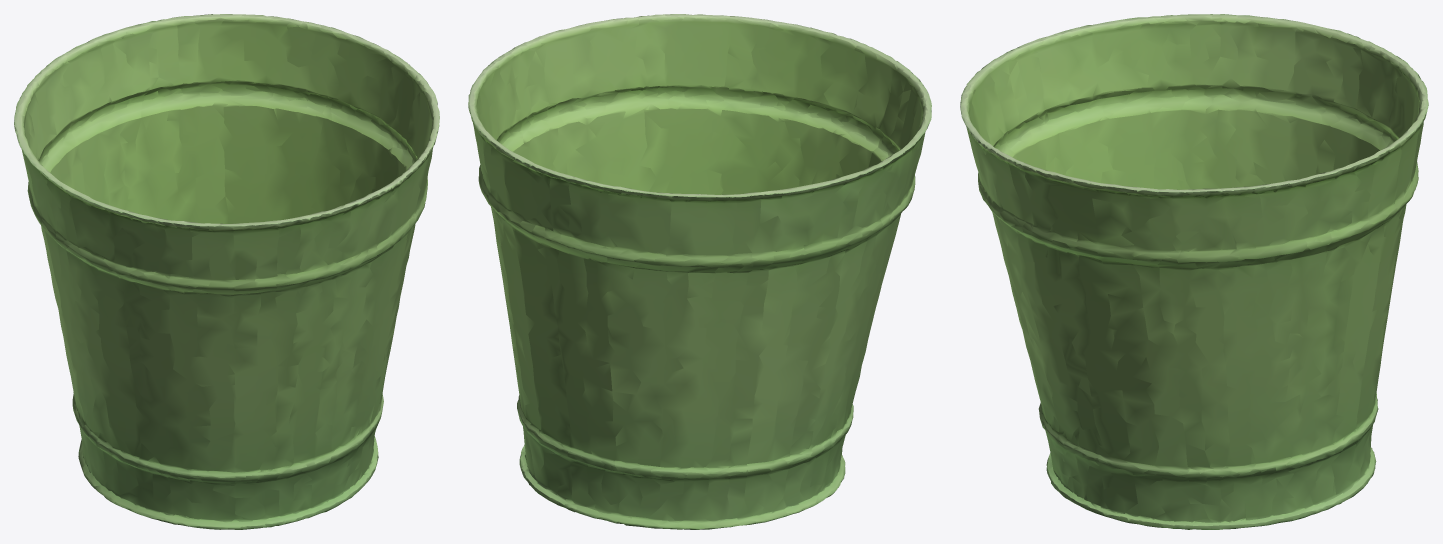
The model's file is 0009_mask_010_green_bucket.glb.
The picture shows the model from 3 angles, left to right: view 1: azimuth 30°, elevation 25°; view 2: azimuth 150°, elevation 25°; view 3: azimuth 270°, elevation 25°; orthographic projection. The views are drawn at different scales.
Parts seen in each view (by area): view 1: mask_010_object; view 2: mask_010_object; view 3: mask_010_object.
Boxes of the visible parts, x1=… form: mask_010_object: x1=14, y1=14, x2=439, y2=529; mask_010_object: x1=468, y1=14, x2=931, y2=529; mask_010_object: x1=960, y1=14, x2=1428, y2=529.
Size of the model in its own units: 0.3672 by 0.3397 by 0.3819.
